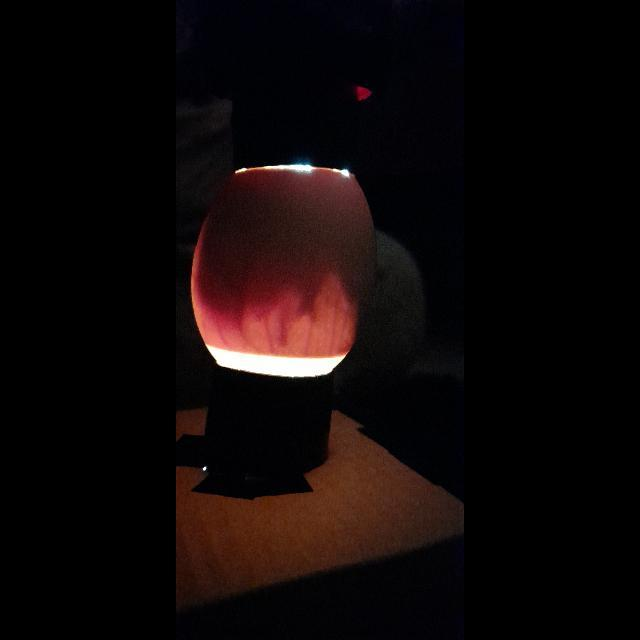Fertile: (188, 165, 372, 382)
